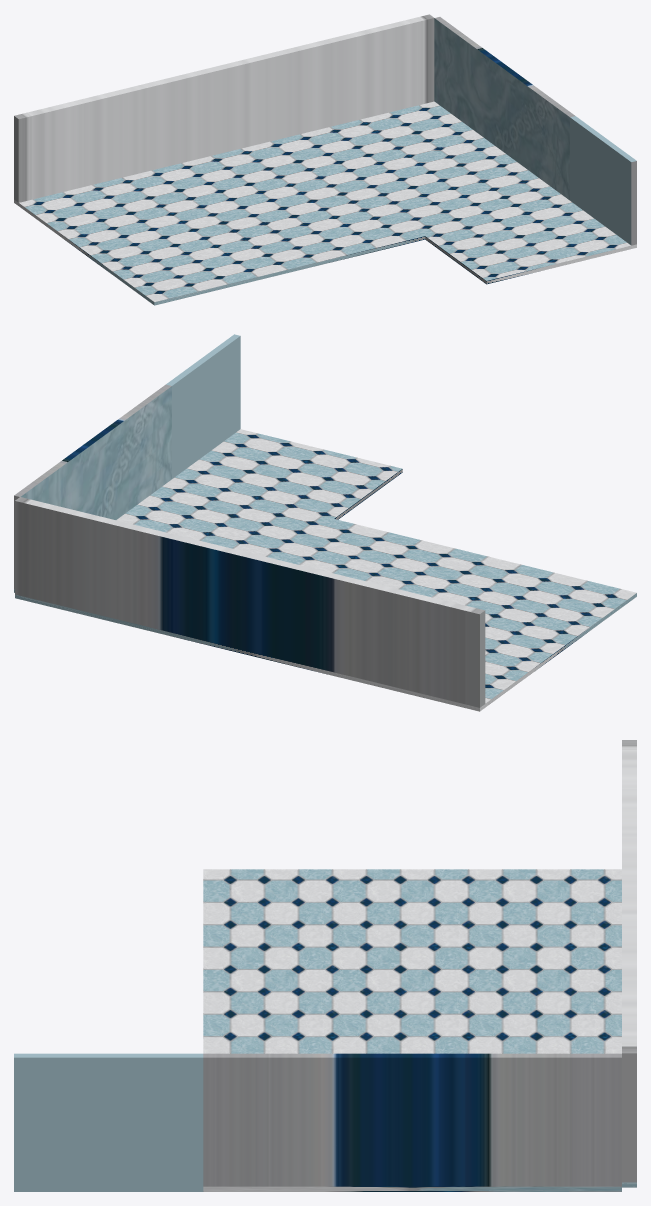
Rendered from cucina.obj.
The picture shows the model from 3 angles, top to bottom: view 1: azimuth 30°, elevation 25°; view 2: azimuth 150°, elevation 25°; view 3: azimuth 270°, elevation 25°; orthographic projection. The views are drawn at different scales.
Visible parts, largest first — view 1: Cube; view 2: Cube; view 3: Cube.
Part boxes in pixels (x1=…): Cube: x1=14, y1=14, x2=636, y2=305; Cube: x1=14, y1=334, x2=636, y2=711; Cube: x1=14, y1=740, x2=636, y2=1191.
Size of the model in its own units: 16.63 by 3.28 by 13.79.
